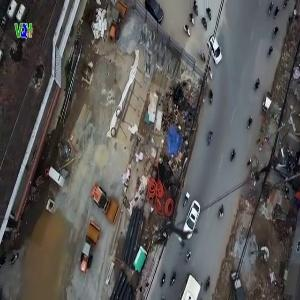drone: (128, 187, 224, 283)
